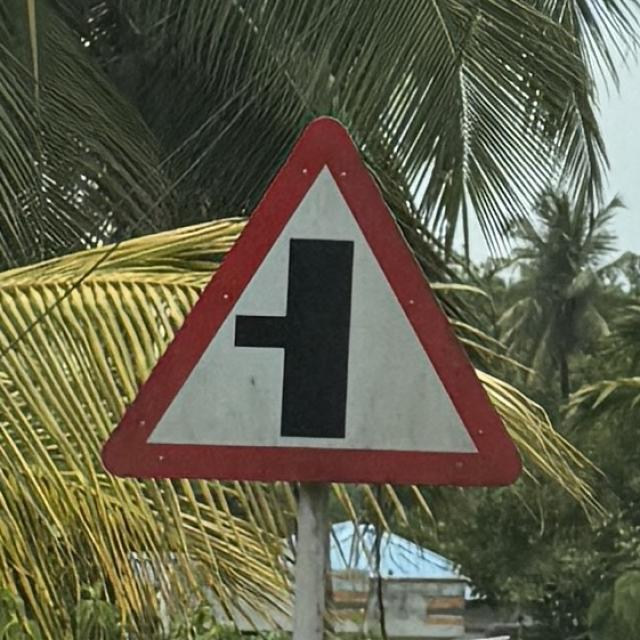SIDE_ROAD_LEFT: (95, 107, 527, 493)
